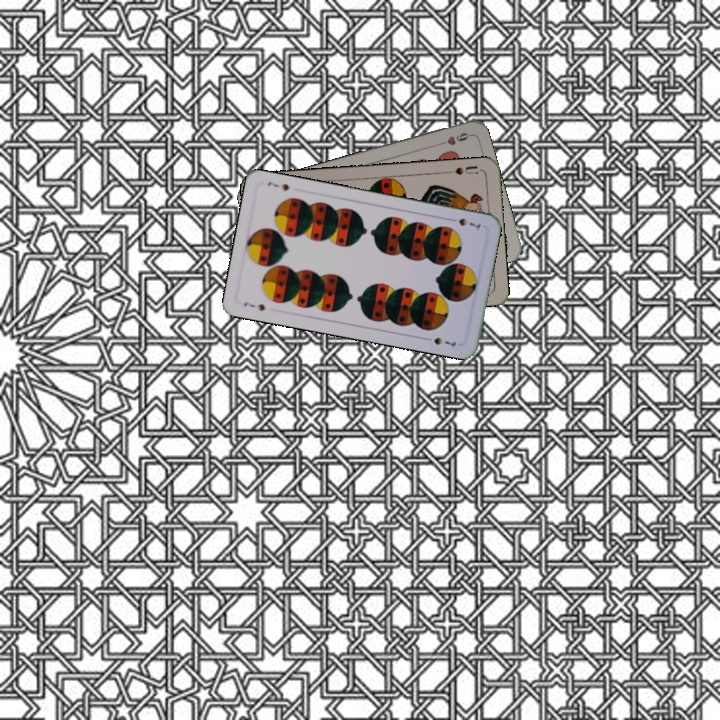H9: (433, 128, 473, 148)
S7: (445, 214, 483, 230), (240, 298, 268, 313)
SU: (443, 162, 484, 177)
